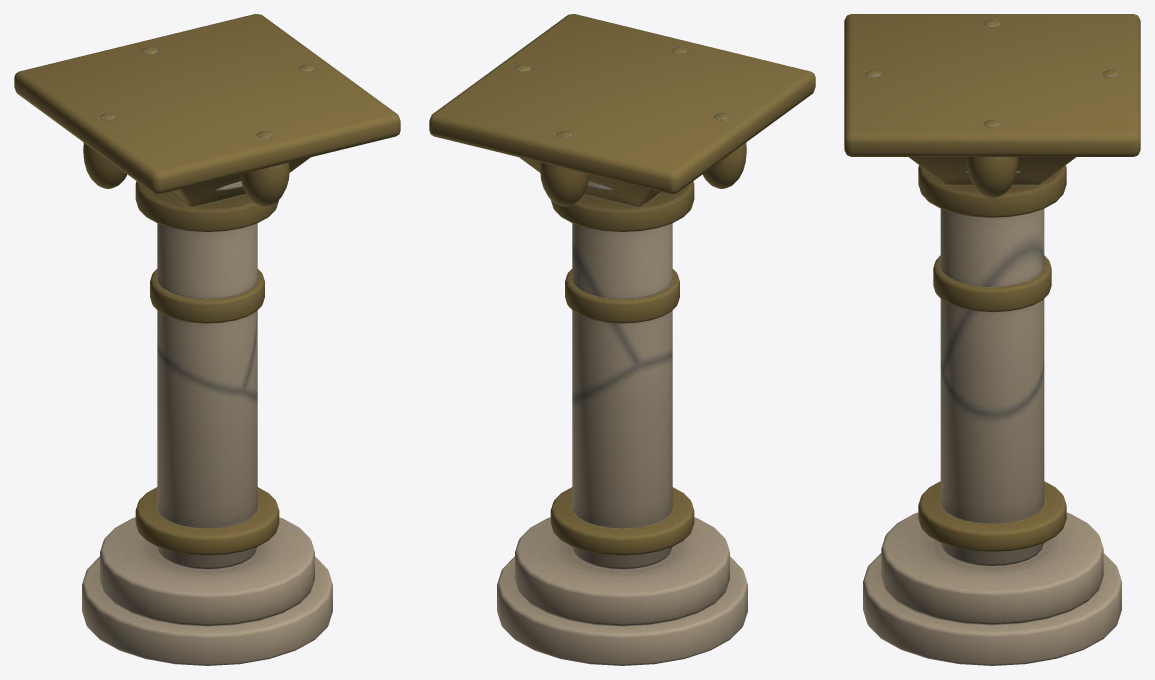
The model's file is marble_pedestal.glb.
3 views of the same model, side by side, from view 1: azimuth 30°, elevation 25°; view 2: azimuth 150°, elevation 25°; view 3: azimuth 270°, elevation 25° (orthographic). The views are drawn at different scales.
Parts seen in each view (by area): view 1: marble_pedestal; view 2: marble_pedestal; view 3: marble_pedestal.
Part boxes in pixels (x1,y1,x2,y2): marble_pedestal: [14, 14, 400, 665]; marble_pedestal: [429, 14, 815, 665]; marble_pedestal: [844, 14, 1140, 665].
Bounding box in the file's own units: 0.8 × 1.61 × 0.8.
1 material, 1 textured.
